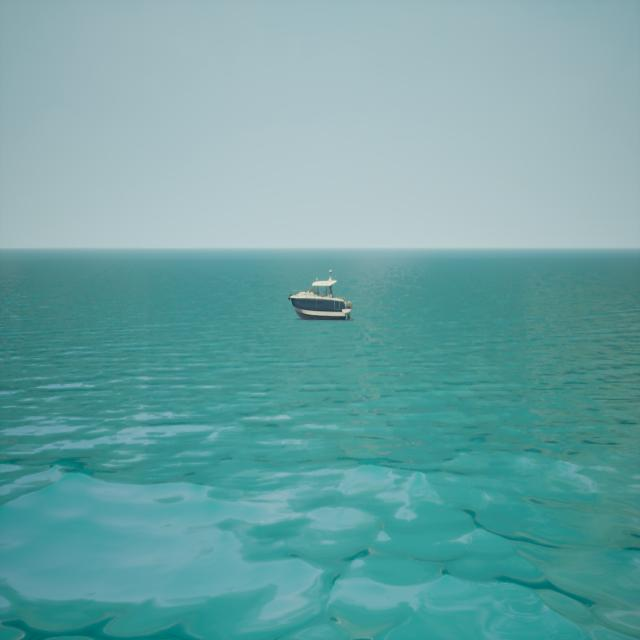ship: (288, 267, 354, 326)
